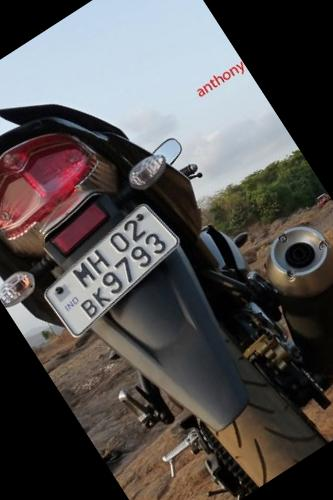plate: (26, 189, 199, 339)
